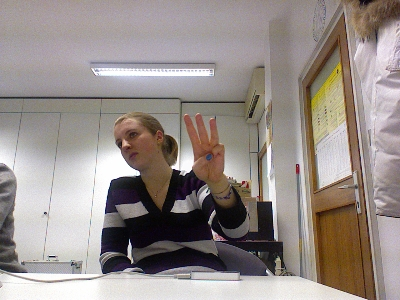三分: (181, 111, 226, 183)
